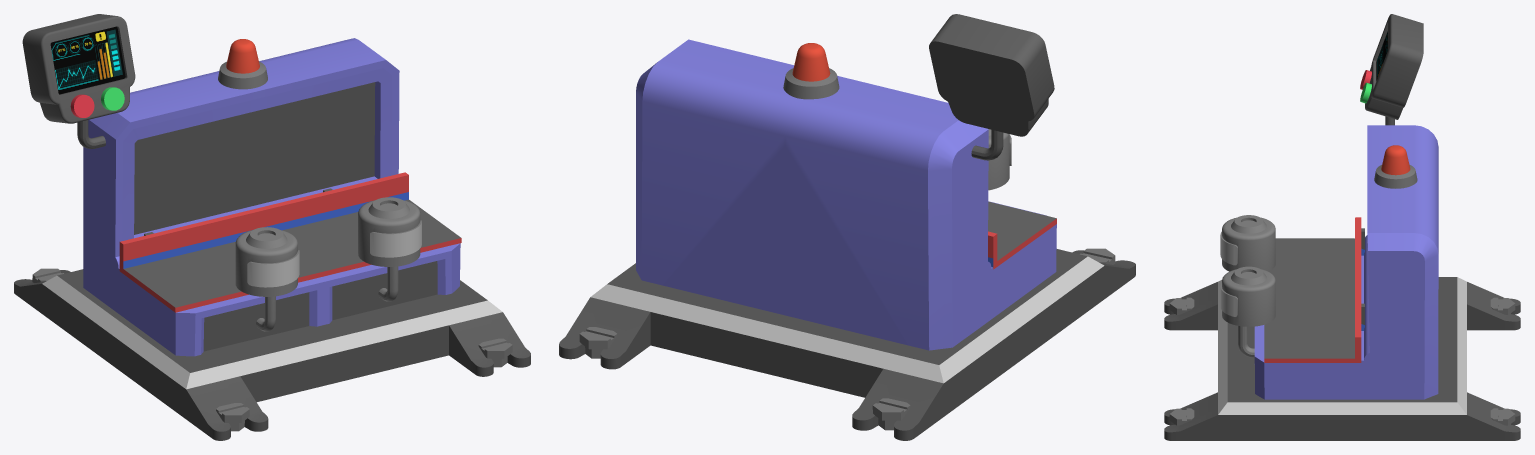
File: etiketMakina.fbx
3 renders of one model, left to right at view 1: azimuth 30°, elevation 25°; view 2: azimuth 150°, elevation 25°; view 3: azimuth 270°, elevation 25°, orthographic. The views are drawn at different scales.
Visible parts, largest first — view 1: govde.002, makinaAlt.002, uzunRay2, ekran.001, ayak.002, etiketKafa2.002, etiketKafa2.003, lamba; view 2: govde.002, makinaAlt.002, ekran.001, ayak.002, uzunRay2, lamba, etiketKafa2.002; view 3: govde.002, makinaAlt.002, uzunRay2, ayak.002, ekran.001, etiketKafa2.003, etiketKafa2.002, lamba.
Boxes of the visible parts, x1=… form: govde.002: x1=83, y1=38, x2=460, y2=356; makinaAlt.002: x1=42, y1=269, x2=502, y2=418; uzunRay2: x1=119, y1=172, x2=461, y2=312; ekran.001: x1=22, y1=14, x2=135, y2=149; ayak.002: x1=14, y1=268, x2=530, y2=440; etiketKafa2.002: x1=235, y1=227, x2=299, y2=296; etiketKafa2.003: x1=358, y1=197, x2=421, y2=266; lamba: x1=218, y1=39, x2=267, y2=89; govde.002: x1=636, y1=39, x2=1056, y2=350; makinaAlt.002: x1=590, y1=249, x2=1104, y2=416; ekran.001: x1=929, y1=14, x2=1054, y2=160; ayak.002: x1=559, y1=248, x2=1135, y2=440; uzunRay2: x1=988, y1=201, x2=1056, y2=269; lamba: x1=783, y1=43, x2=839, y2=99; etiketKafa2.002: x1=988, y1=129, x2=1011, y2=190; govde.002: x1=1254, y1=125, x2=1438, y2=399; makinaAlt.002: x1=1218, y1=277, x2=1466, y2=440; uzunRay2: x1=1264, y1=217, x2=1364, y2=362; ayak.002: x1=1164, y1=282, x2=1520, y2=440; ekran.001: x1=1365, y1=14, x2=1423, y2=125; etiketKafa2.003: x1=1220, y1=266, x2=1275, y2=326; etiketKafa2.002: x1=1220, y1=215, x2=1275, y2=271; lamba: x1=1374, y1=145, x2=1417, y2=188.
Size of the model in its own units: 1343 by 1138 by 1325.
